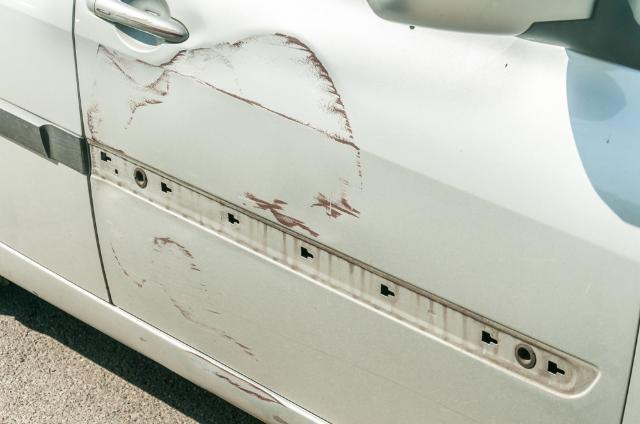scratch: (83, 29, 367, 413)
